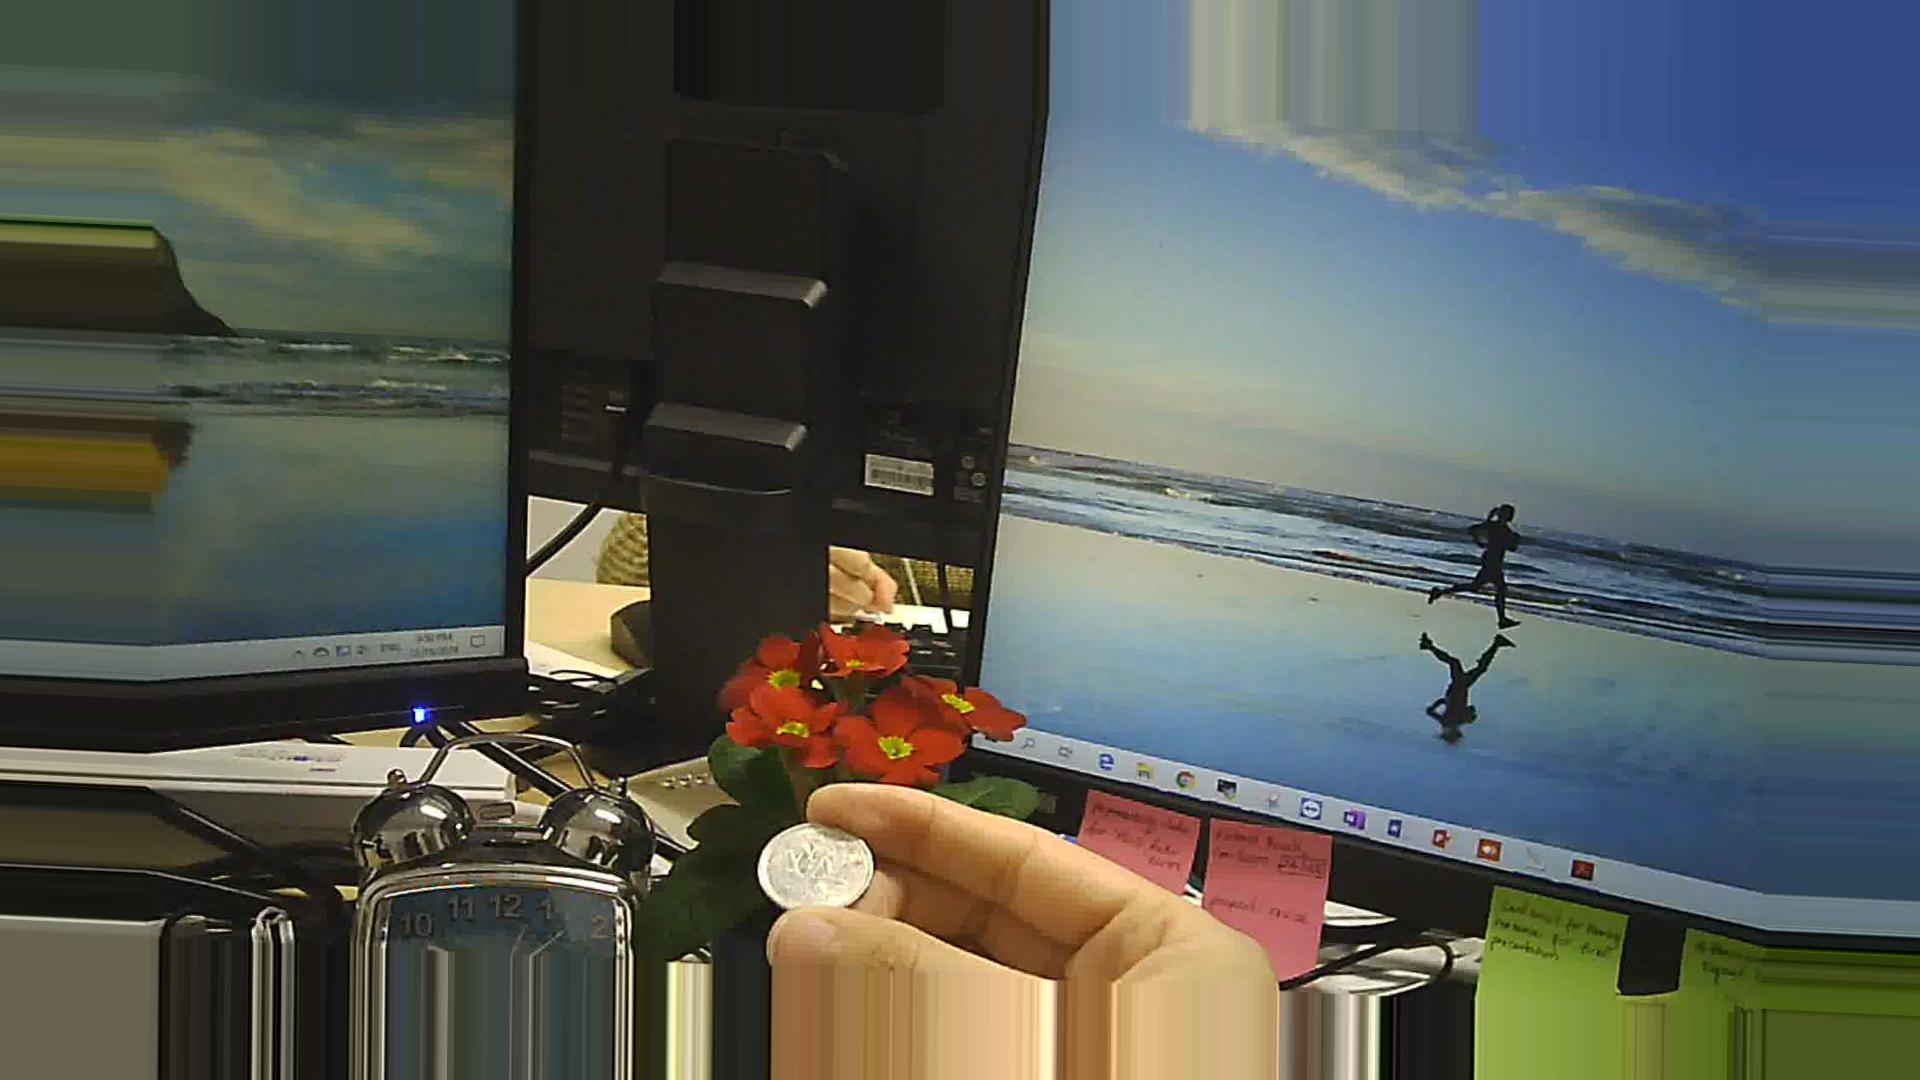1 Yen: (746, 824, 884, 916)
